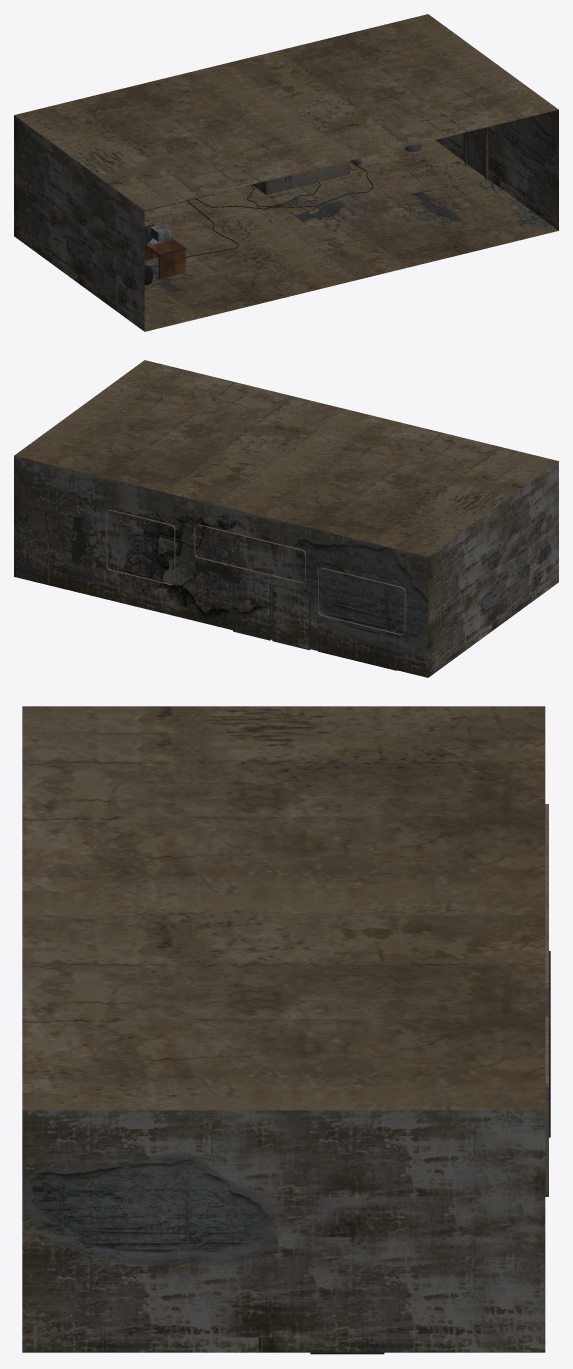
File: SettingsRoom.FBX
3 renders of one model, top to bottom at view 1: azimuth 30°, elevation 25°; view 2: azimuth 150°, elevation 25°; view 3: azimuth 270°, elevation 25°, orthographic. The views are drawn at different scales.
Parts seen in each view (by area): view 1: Box01, Cylinder01, Box06, Cylinder05; view 2: Box01, Box16, Box22; view 3: Box01, Box16.
Boxes of the visible parts, left/top/right/bottom form: Box01: left=14, top=14, right=558, bottom=331; Cylinder01: left=151, top=127, right=488, bottom=277; Box06: left=144, top=224, right=185, bottom=285; Cylinder05: left=252, top=158, right=362, bottom=194; Box01: left=14, top=360, right=558, bottom=677; Box16: left=106, top=509, right=405, bottom=635; Box22: left=233, top=574, right=397, bottom=670; Box01: left=22, top=706, right=545, bottom=1352; Box16: left=545, top=804, right=548, bottom=1196.
Size of the model in its own units: 83.8 by 23.86 by 46.25.
6 materials, 6 textured.
